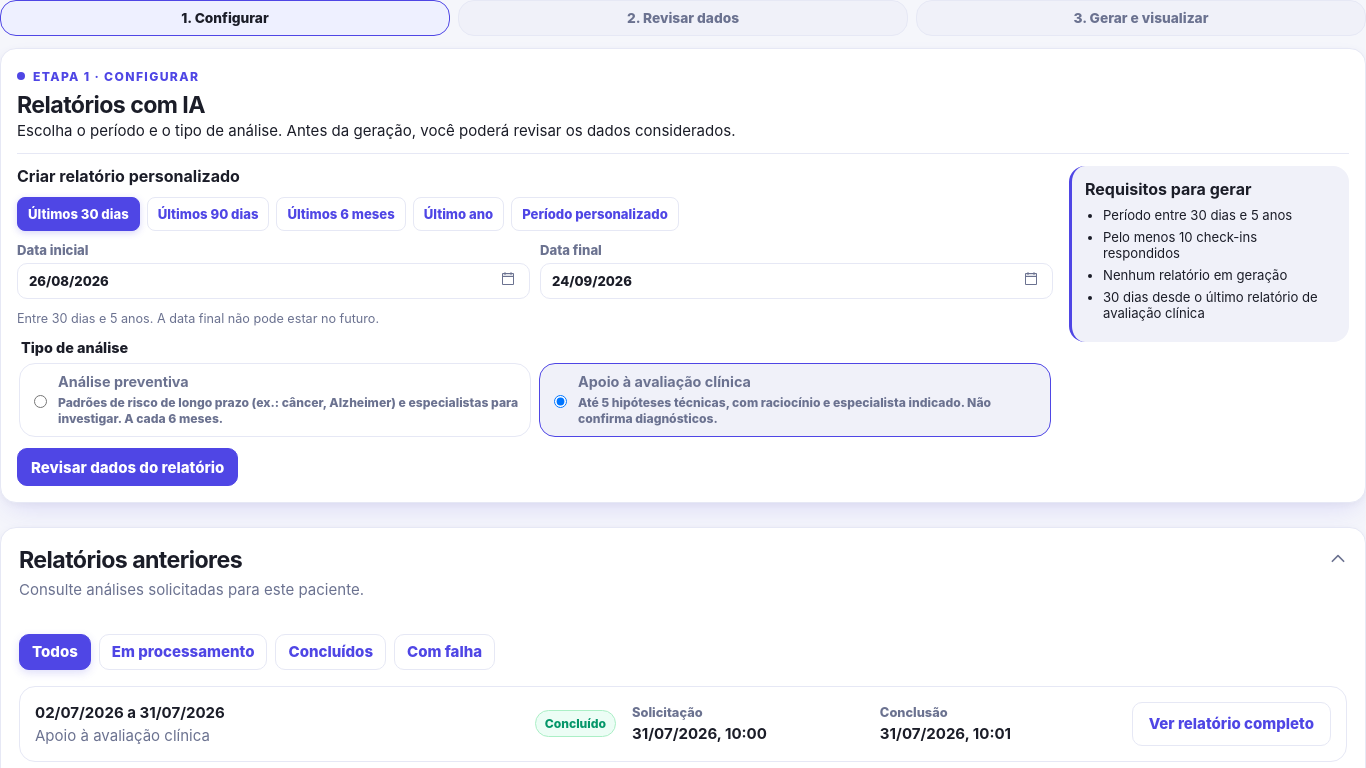
jornada completa de relatórios com IA › renderiza até 5 hipóteses da avaliação clínica com raciocínio e especialista
The image size is (1366, 768).
Click the button "Ver relatório completo" at coordinates (1231, 724), box [1132,702,1331,746]
(page scrolled)
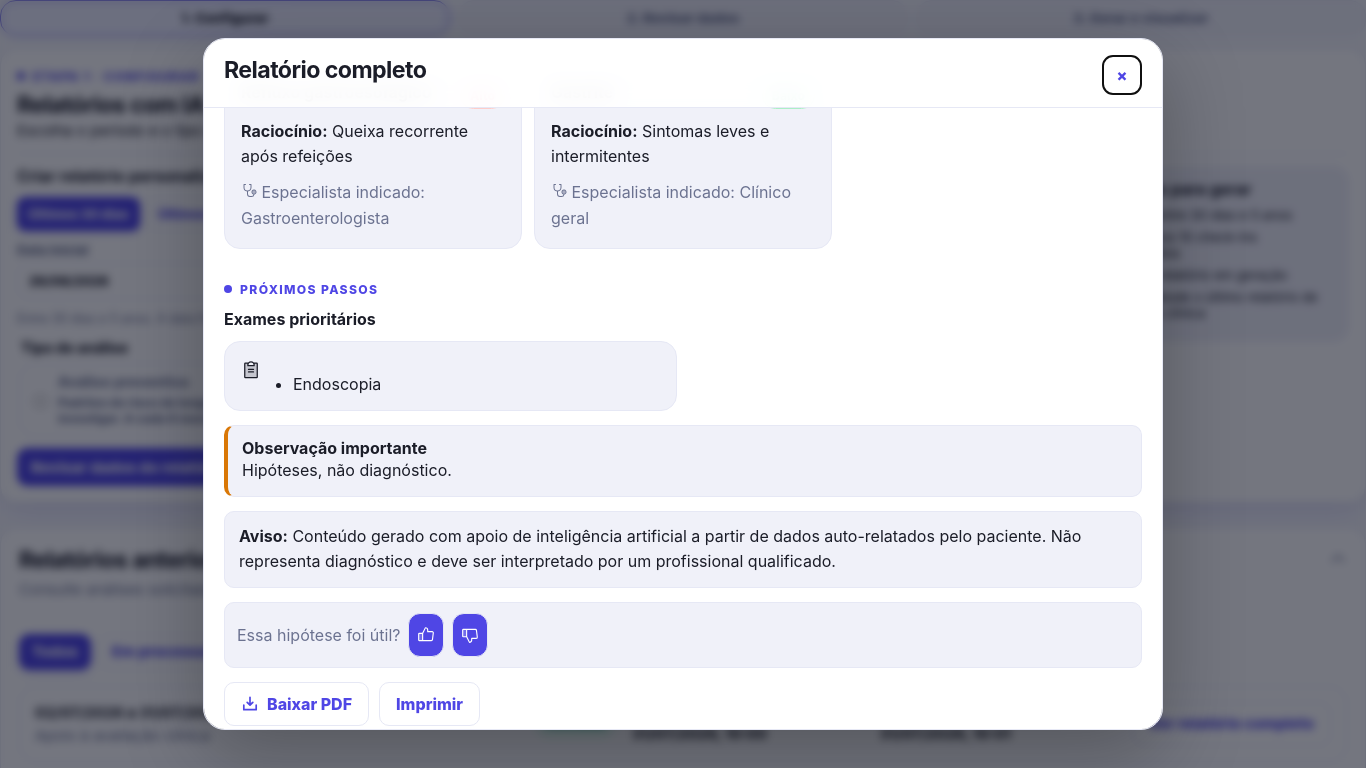
Expected: the text "Raciocínio: Queixa recorrente após refeições" is shown, [241,118,505,170]
Expected: the text "Especialista indicado: Gastroenterologista" is shown, [241,182,425,228]
Expected: the list item "Endoscopia" is shown, [293,374,381,394]
